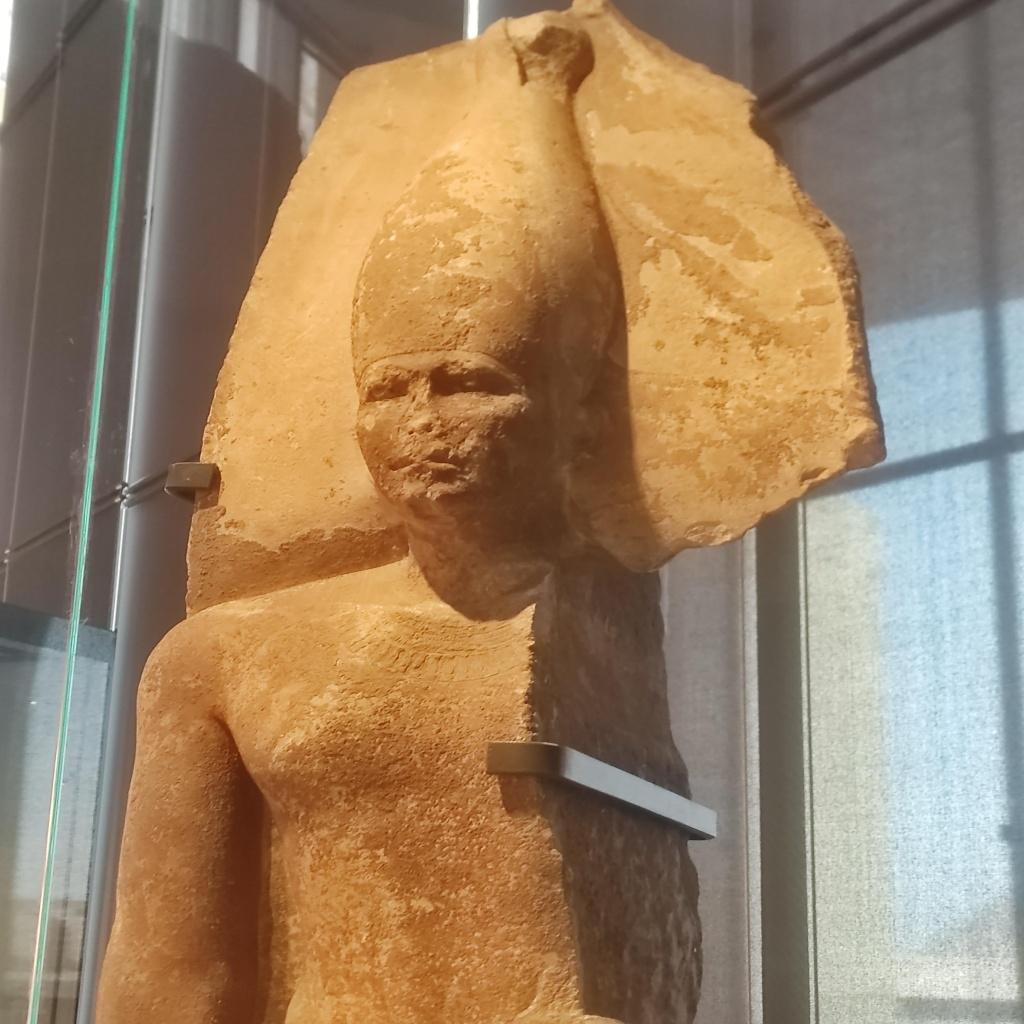Statue of Snefru: (88, 2, 888, 1020)
